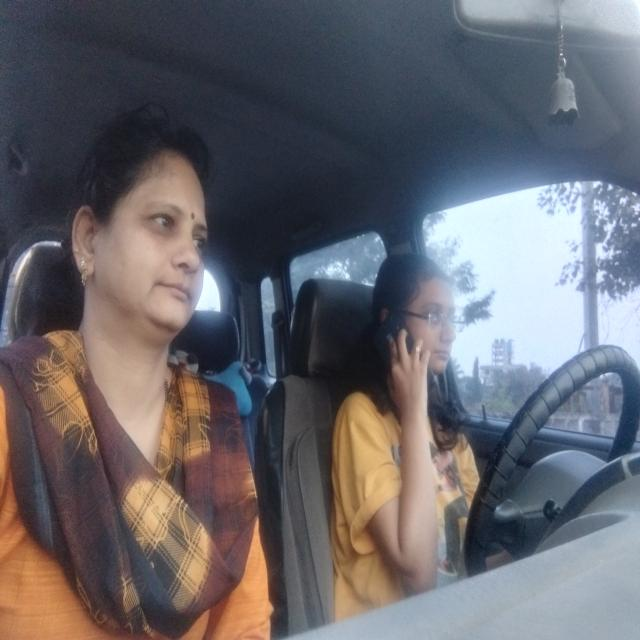mobile: (373, 304, 445, 418)
person: (57, 114, 221, 339), (370, 250, 468, 384)
